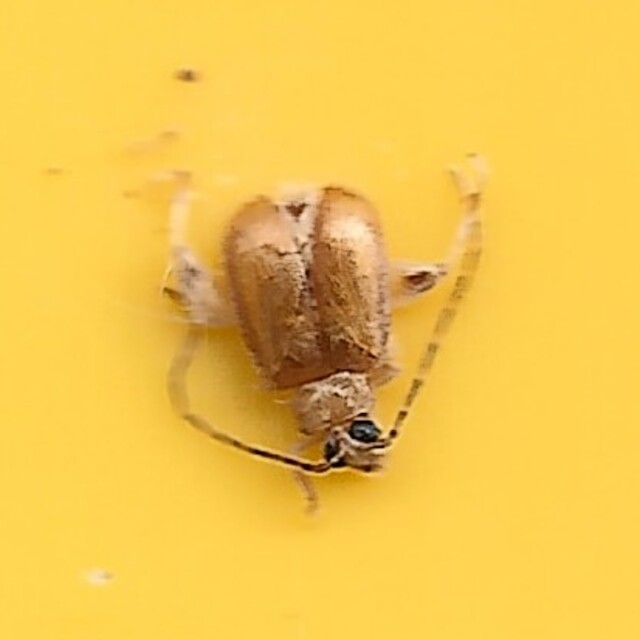Coleoptera: (155, 155, 485, 485)
